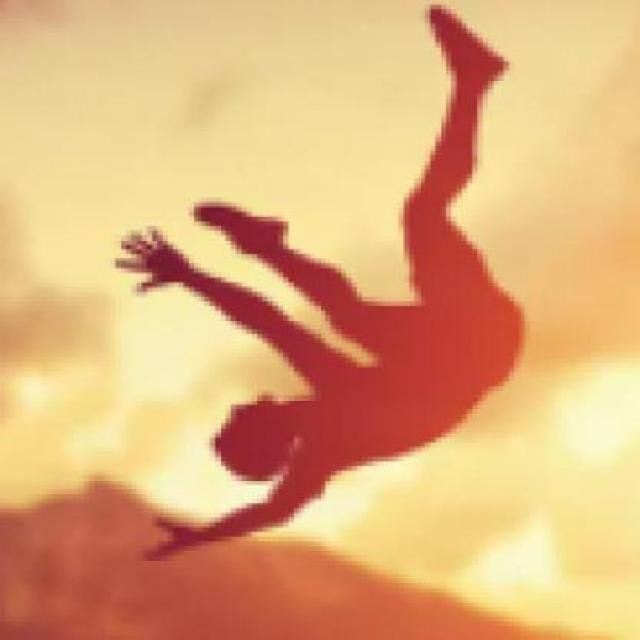fall: (118, 0, 538, 554)
